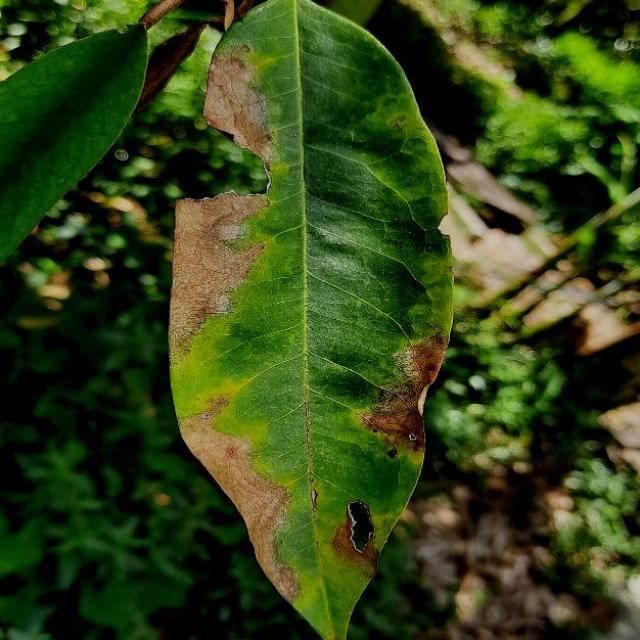Leaf Blight: (162, 0, 462, 640)
